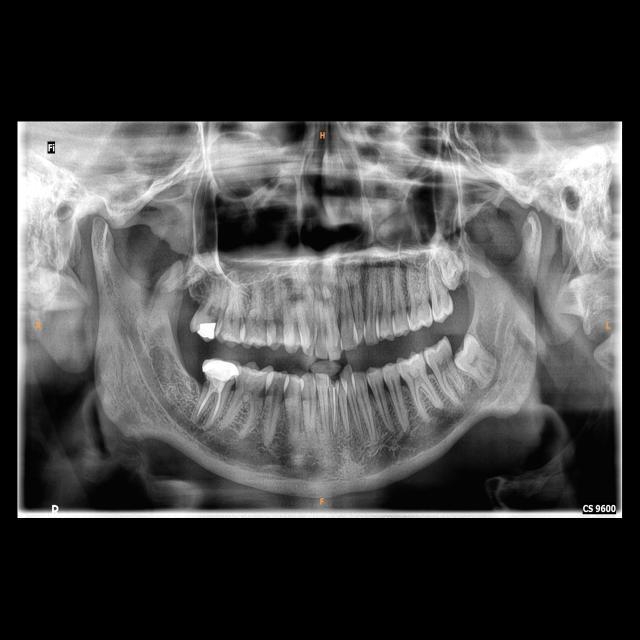dentin-curugu: (256, 384, 265, 402), (328, 378, 342, 389)
dolgu: (194, 318, 217, 339)
kanal-tedavisi: (192, 383, 224, 426), (330, 389, 339, 428)
kaplama: (200, 358, 240, 384)
